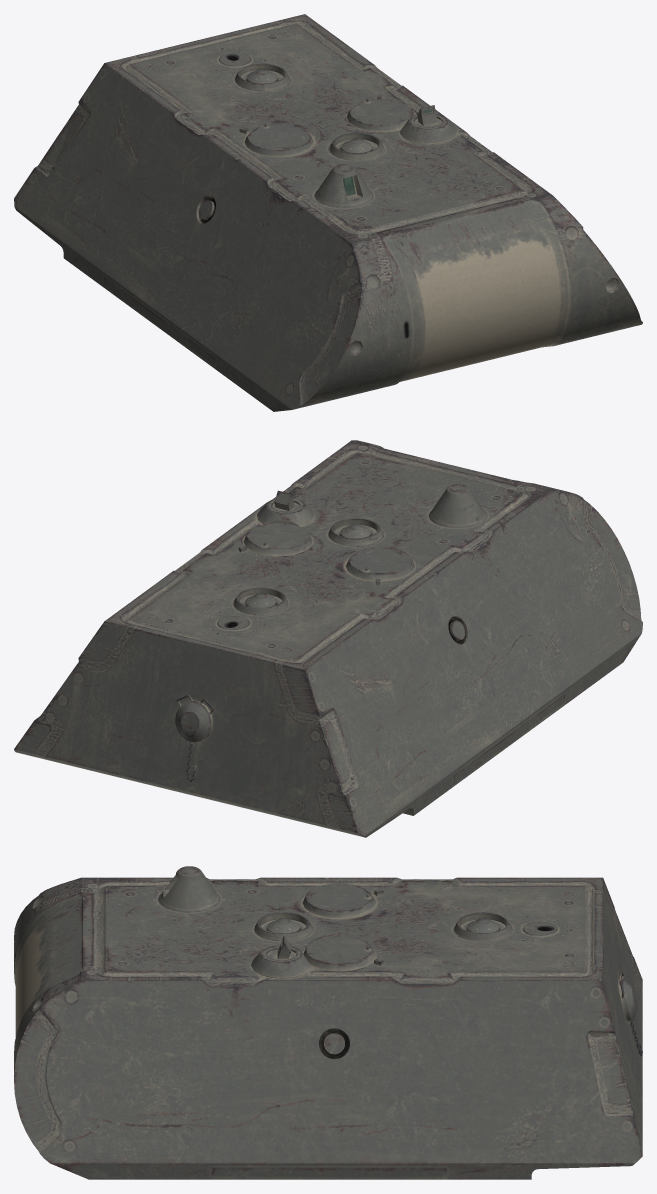
The model's file is turret.obj.
3 renders of one model, top to bottom at view 1: azimuth 30°, elevation 25°; view 2: azimuth 150°, elevation 25°; view 3: azimuth 270°, elevation 25°, orthographic. The views are drawn at different scales.
Visible parts, largest first — view 1: turret; view 2: turret; view 3: turret.
Boxes of the visible parts, x1,y1,x2,y2 form: turret: [14, 14, 642, 411]; turret: [14, 440, 642, 837]; turret: [14, 866, 642, 1179].
Bounding box in the file's own units: 3.07 × 1.53 × 4.53.
Materials: 1 (1 with a texture image).
